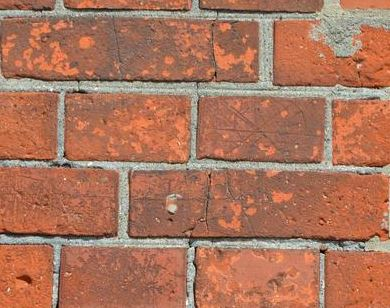brick: (126, 166, 389, 241), (1, 15, 262, 85), (63, 92, 193, 161), (268, 17, 390, 90), (195, 95, 329, 161), (1, 166, 120, 237), (58, 243, 187, 308), (192, 244, 321, 308), (1, 89, 62, 158), (331, 97, 390, 168), (324, 249, 390, 307), (1, 243, 55, 306)
